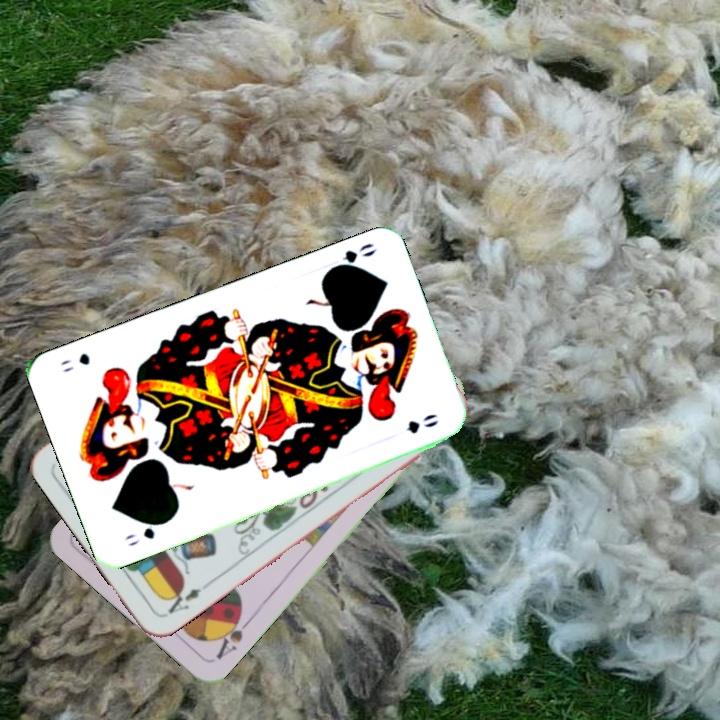EA: (160, 582, 204, 619)
GO: (324, 239, 379, 274), (121, 516, 171, 549)
SA: (210, 607, 254, 663)
